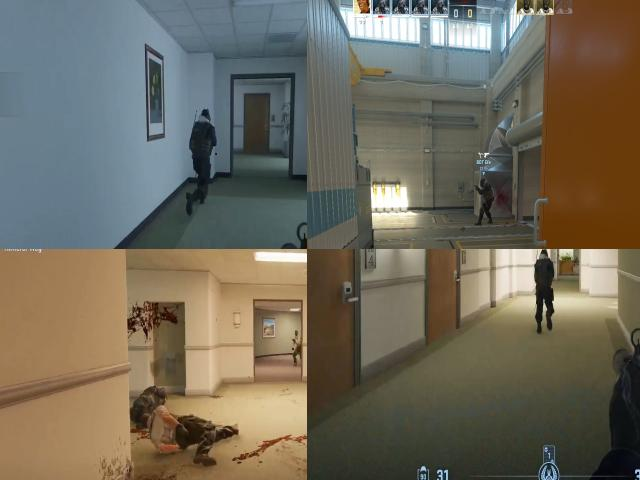CT: (186, 100, 221, 175), (533, 249, 555, 295), (478, 176, 493, 228)
CT-Head: (194, 104, 214, 128), (536, 249, 550, 264), (480, 177, 487, 188)
Dead: (140, 416, 248, 464)
T: (290, 328, 304, 363), (292, 328, 301, 340)
